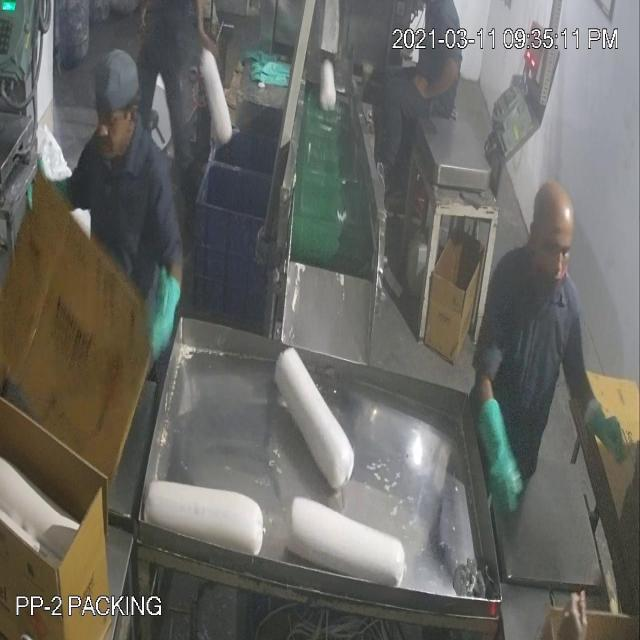Gloves: (47, 60, 602, 457)
